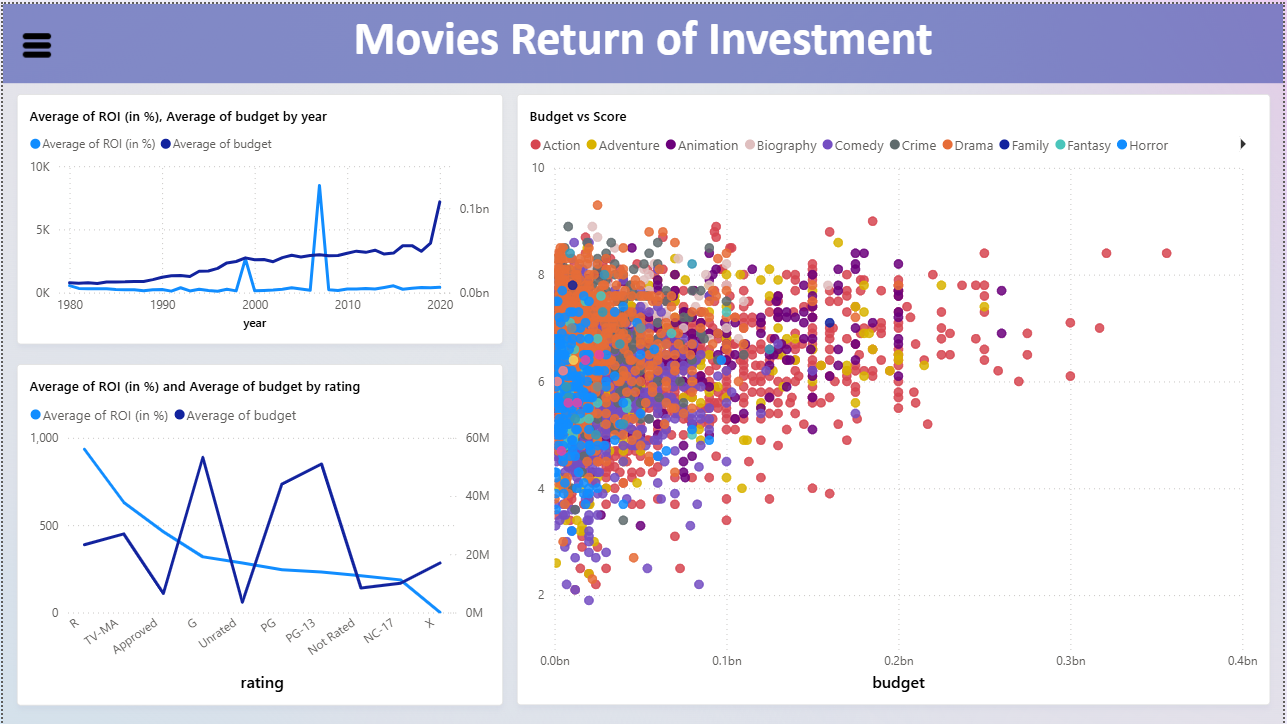

What the dashboard file says about the page in this screenshot:
{"tool":"powerbi","page":{"name":"Page 2","canvas":[1280,720],"ordinal":1},"visuals":[{"type":"textbox","box":[0,0,1280.3,79.5],"z":0},{"type":"actionButton","title":"Slicer Pane Button","box":[13.5,20.8,100.3,40.4],"z":8000},{"type":"scatterChart","title":"Budget vs Score","fields":{"Y":["movies_cleaned.score"],"X":["movies_cleaned.budget"],"Series":["movies_cleaned.genre"]},"box":[513.8,90,753.8,611.2],"z":10000},{"type":"lineChart","title":"Average of ROI (in %), Average of budget by year","fields":{"Y":["Avg(movies_cleaned.ROI (in %))"],"Category":["movies_cleaned.year"],"Y2":["Avg(movies_cleaned.budget)"]},"box":[13.8,90,486.2,250],"z":11000},{"type":"lineChart","fields":{"Y":["Avg(movies_cleaned.ROI (in %))"],"Category":["movies_cleaned.rating"],"Y2":["Avg(movies_cleaned.budget)"]},"box":[13.8,360,486.2,341.2],"z":12000}]}

Visuals, with their boxes in screenshot pixels (x1, y1, x2, y2), scaled from the page's 1280x720 canvas onto the 1287x724 screenshot:
textbox: l=0, t=0, r=1286, b=80
"Slicer Pane Button" actionButton: l=14, t=21, r=114, b=62
"Budget vs Score" scatterChart: l=517, t=90, r=1275, b=705
"Average of ROI (in %), Average of budget by year" lineChart: l=14, t=90, r=503, b=342
lineChart - Avg(movies_cleaned.ROI (in %)) x movies_cleaned.rating: l=14, t=362, r=503, b=705
